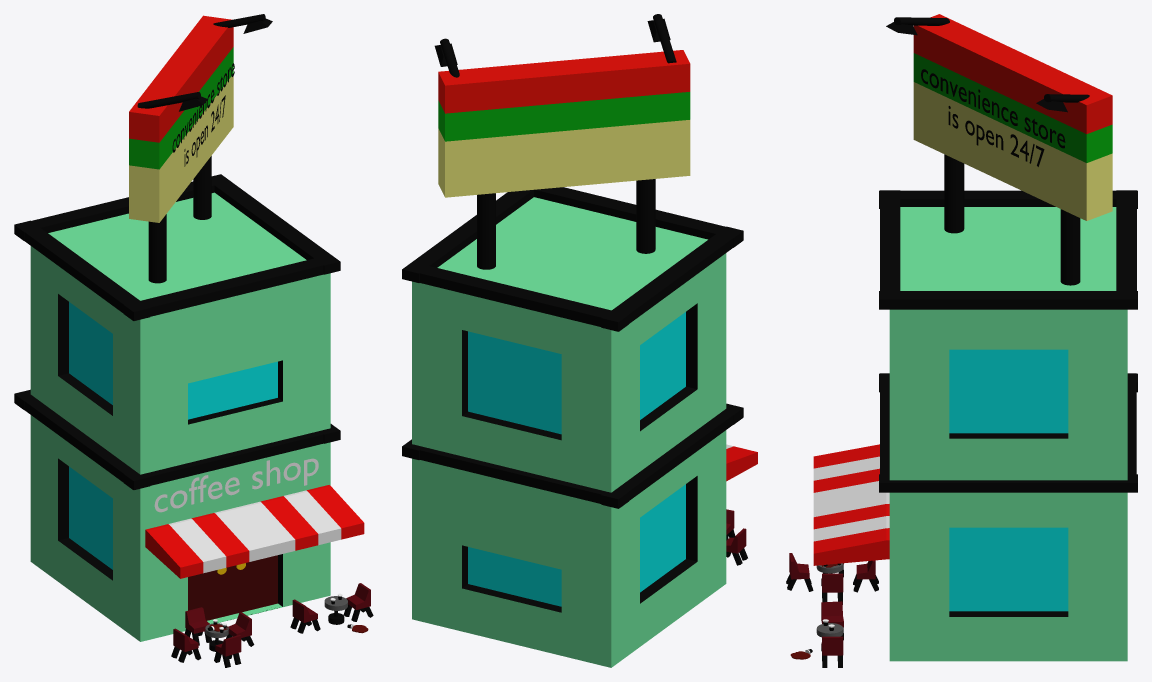
Rendered from building 15 (coffee shop).fbx.
3 renders of one model, left to right at view 1: azimuth 30°, elevation 25°; view 2: azimuth 150°, elevation 25°; view 3: azimuth 270°, elevation 25°, orthographic. The views are drawn at different scales.
Visible parts, largest first — view 1: Cube, Cube.010, Cube.009, Cube.006, Cube.005, Cube.007, Cube.003, Cube.004, Cube.008, Text, Cylinder.002, Cylinder.001 (+1 smaller); view 2: Cube, Cube.010, Cube.008, Cube.005, Cube.001, Cube.006, Cube.004, Cube.007, Cylinder.002, Cylinder.001, Cube.009; view 3: Cube, Cube.010, Cube.009, Cube.007, Cube.002, Cube.008, Cube.005, Cube.006, Text.001, Cylinder.002, Cylinder.001, Cube.001 (+1 smaller).
Boxes of the visible parts, bbox=[...] form: Cube: bbox=[30, 192, 330, 641]; Cube.010: bbox=[129, 15, 233, 222]; Cube.009: bbox=[145, 485, 364, 578]; Cube.006: bbox=[123, 254, 335, 320]; Cube.005: bbox=[14, 220, 150, 320]; Cube.007: bbox=[211, 174, 340, 274]; Cube.003: bbox=[123, 424, 337, 489]; Cube.004: bbox=[14, 389, 150, 489]; Cube.008: bbox=[14, 174, 230, 240]; Text: bbox=[154, 458, 318, 512]; Cylinder.002: bbox=[148, 214, 166, 283]; Cylinder.001: bbox=[193, 156, 211, 219]; Cube: bbox=[412, 197, 726, 667]; Cube.010: bbox=[438, 50, 690, 197]; Cube.008: bbox=[405, 262, 628, 331]; Cube.005: bbox=[601, 226, 743, 331]; Cube.001: bbox=[403, 439, 629, 508]; Cube.006: bbox=[534, 187, 743, 247]; Cube.004: bbox=[601, 403, 743, 508]; Cube.007: bbox=[402, 190, 533, 282]; Cylinder.002: bbox=[636, 179, 655, 253]; Cylinder.001: bbox=[477, 193, 495, 269]; Cube.009: bbox=[726, 444, 757, 481]; Cube: bbox=[889, 207, 1127, 661]; Cube.010: bbox=[913, 14, 1112, 220]; Cube.009: bbox=[813, 444, 889, 565]; Cube.007: bbox=[879, 291, 1137, 309]; Cube.002: bbox=[879, 474, 1137, 492]; Cube.008: bbox=[1116, 190, 1136, 309]; Cube.005: bbox=[879, 190, 1137, 208]; Cube.006: bbox=[880, 190, 900, 309]; Text.001: bbox=[921, 69, 1065, 166]; Cylinder.002: bbox=[944, 154, 964, 233]; Cylinder.001: bbox=[1060, 209, 1080, 285]; Cube.001: bbox=[1116, 373, 1136, 492].
Size of the model in its own units: 1243 by 2920 by 1608.
